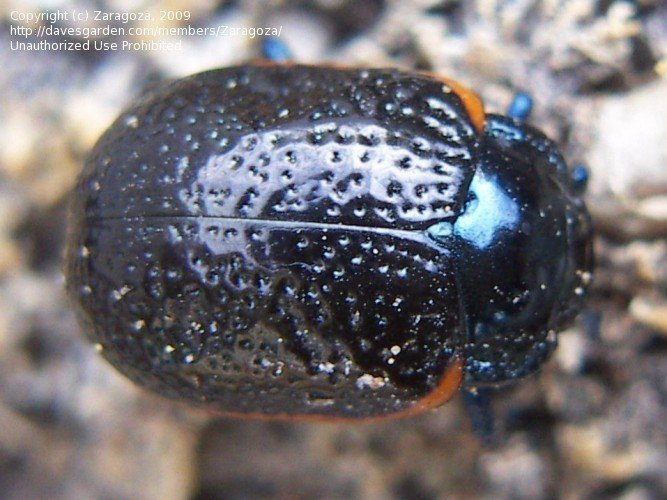Chrysolina_gypsophila: (61, 59, 607, 448)
